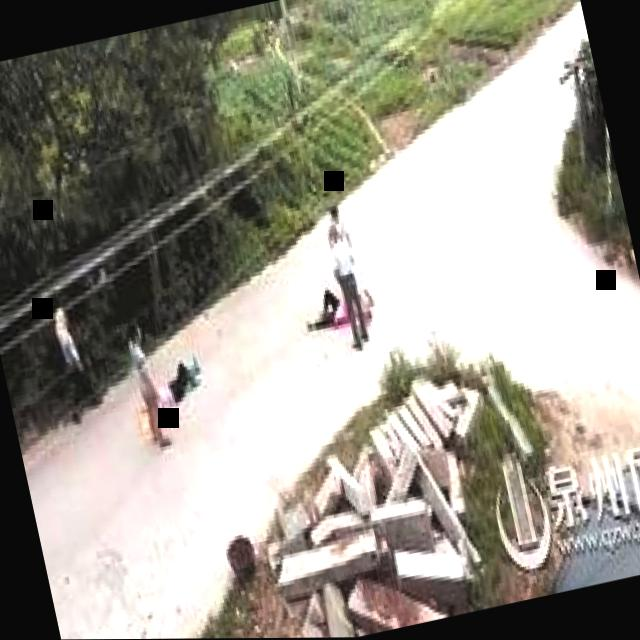Fall-Detected: (289, 268, 352, 334)
